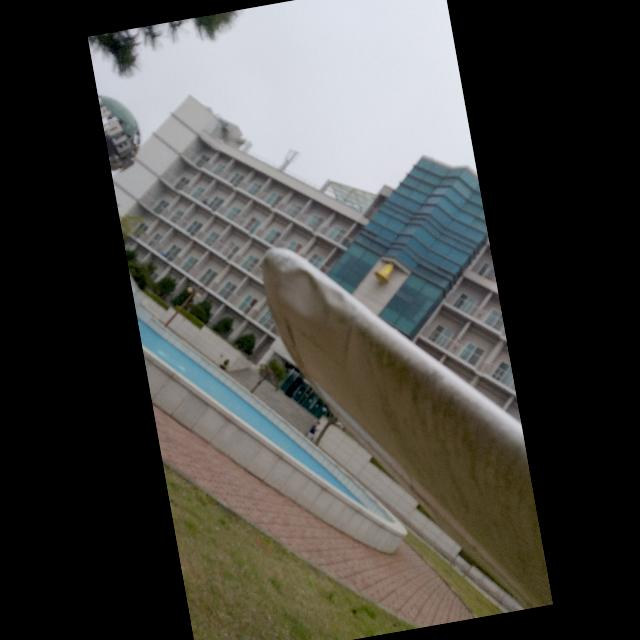dent: (271, 258, 333, 325), (324, 280, 350, 310)
